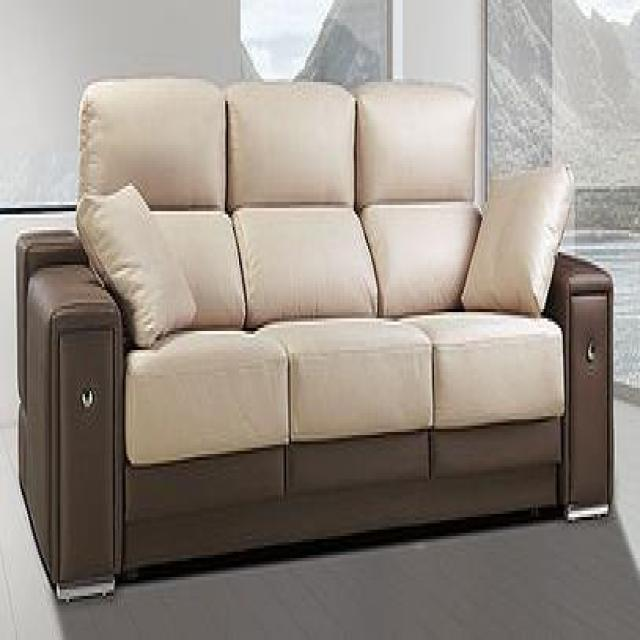sofa: (16, 79, 612, 603)
